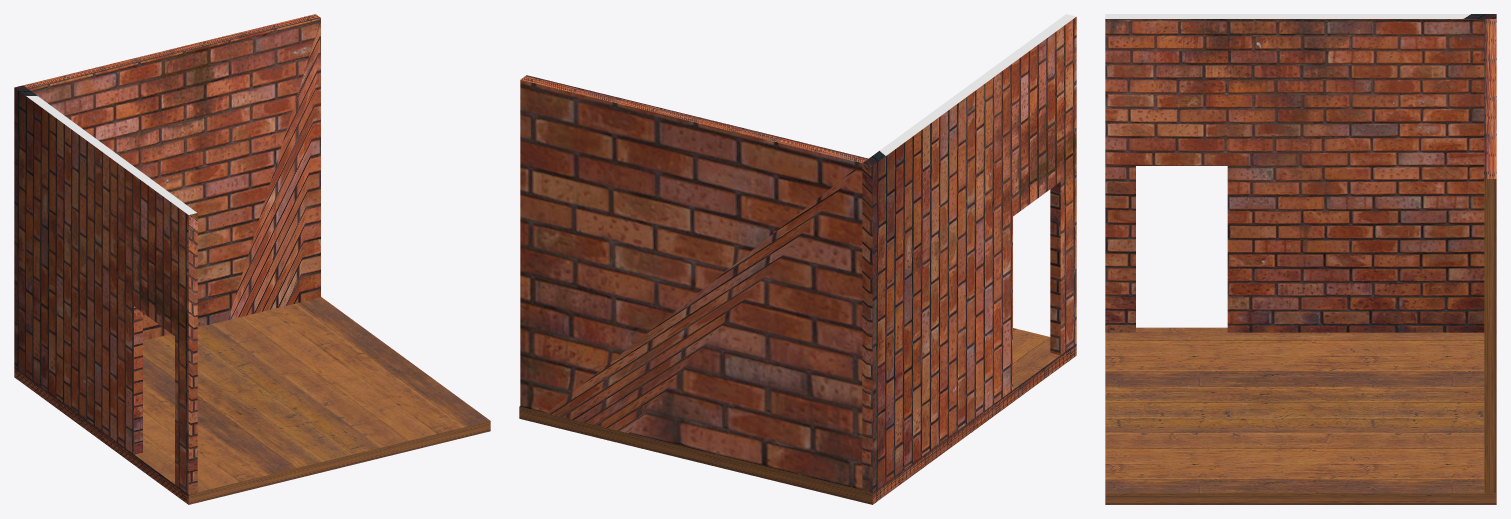
The model's file is LivingRoom.fbx.
3 views of the same model, side by side, from view 1: azimuth 30°, elevation 25°; view 2: azimuth 150°, elevation 25°; view 3: azimuth 270°, elevation 25° (orthographic). The views are drawn at different scales.
Parts seen in each view (by area): view 1: left_foor_pCube3, left_foor_pCube4, pCube1; view 2: left_foor_pCube3, left_foor_pCube4, pCube1; view 3: left_foor_pCube4, pCube1, left_foor_pCube3.
Part boxes in pixels (x1=…): left_foor_pCube3: x1=23, y1=14, x2=320, y2=340; left_foor_pCube4: x1=14, y1=85, x2=197, y2=494; pCube1: x1=14, y1=297, x2=490, y2=504; left_foor_pCube3: x1=520, y1=75, x2=868, y2=489; left_foor_pCube4: x1=862, y1=14, x2=1076, y2=492; pCube1: x1=519, y1=328, x2=1076, y2=504; left_foor_pCube4: x1=1105, y1=14, x2=1496, y2=332; pCube1: x1=1105, y1=327, x2=1496, y2=504; left_foor_pCube3: x1=1484, y1=19, x2=1496, y2=492.
Size of the model in its own units: 110 by 101 by 110.
1 material, 1 textured.
